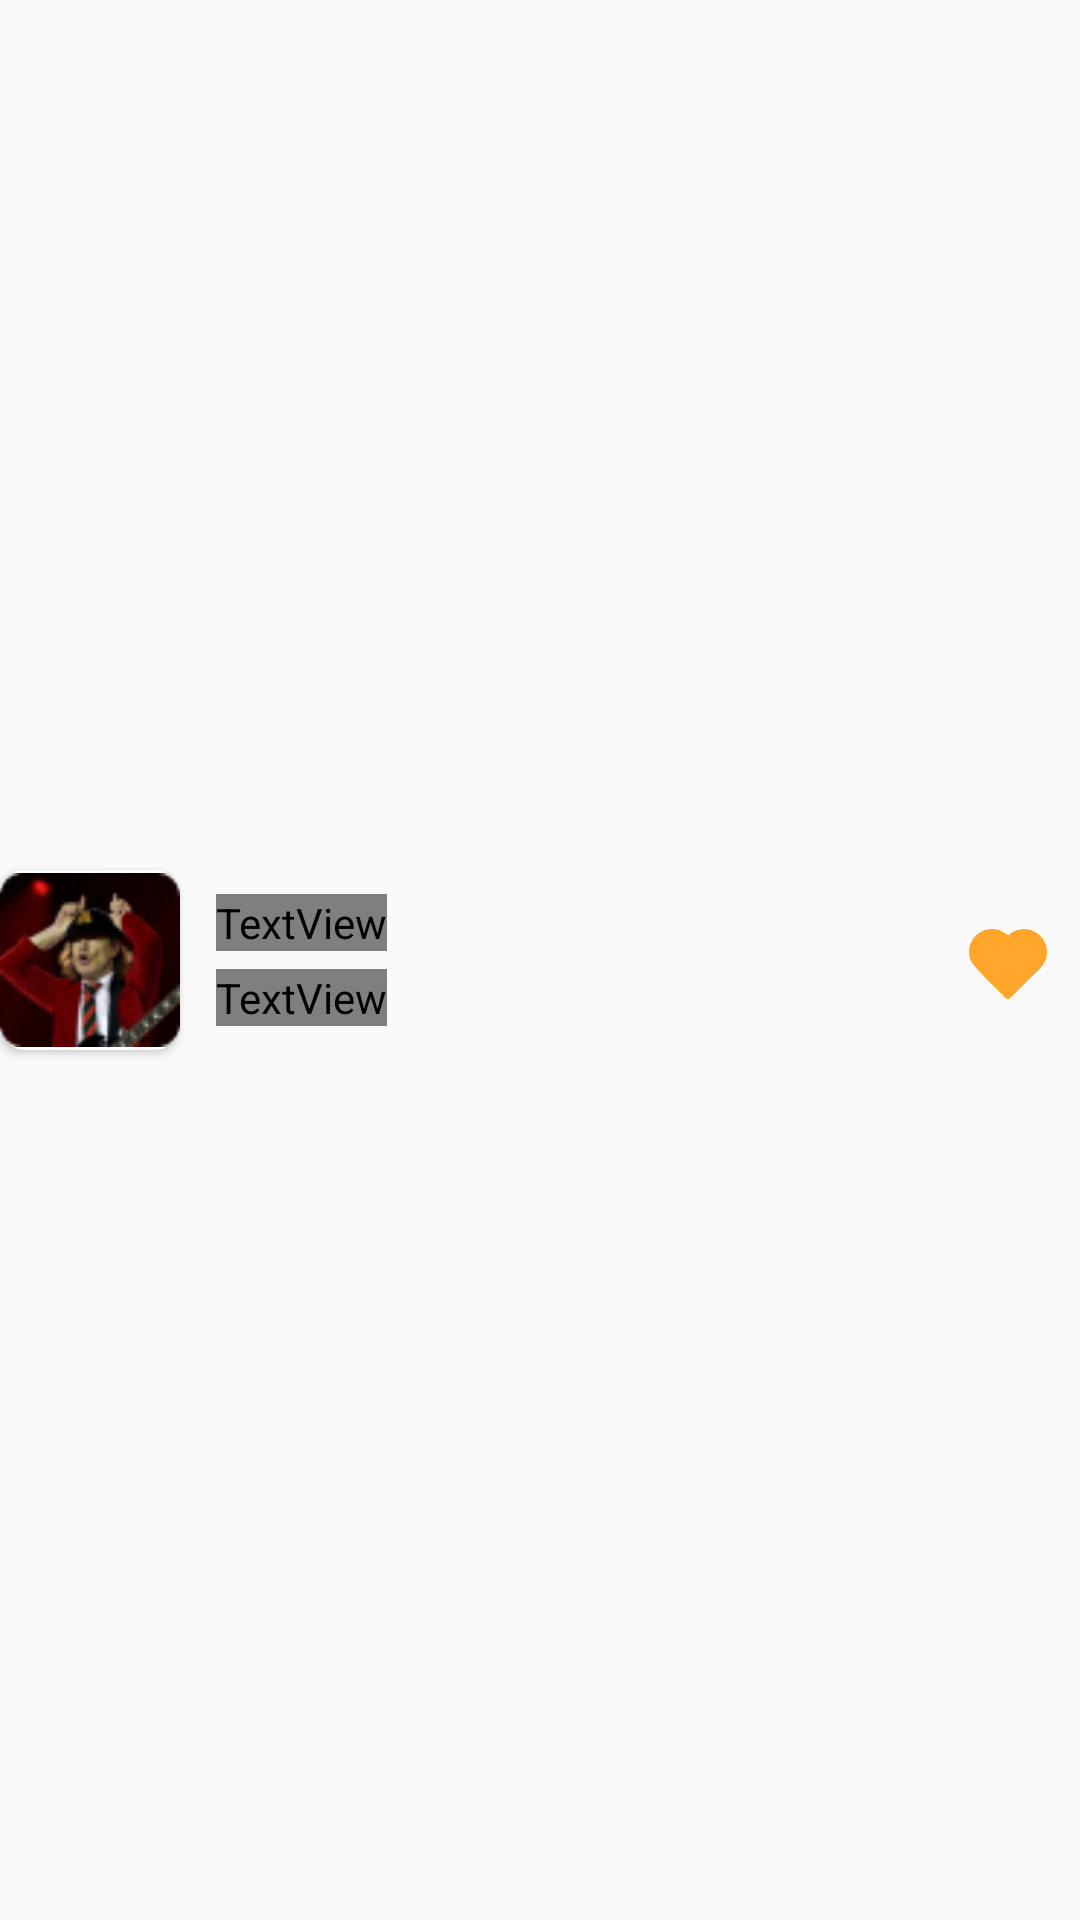

Named icons in this screenshot (1080w x 1920h) and their bounding boxes, bbox(x1, y1, x2, y2):
favorite added: bbox(969, 929, 1047, 999)
track: bbox(0, 873, 180, 1050)
